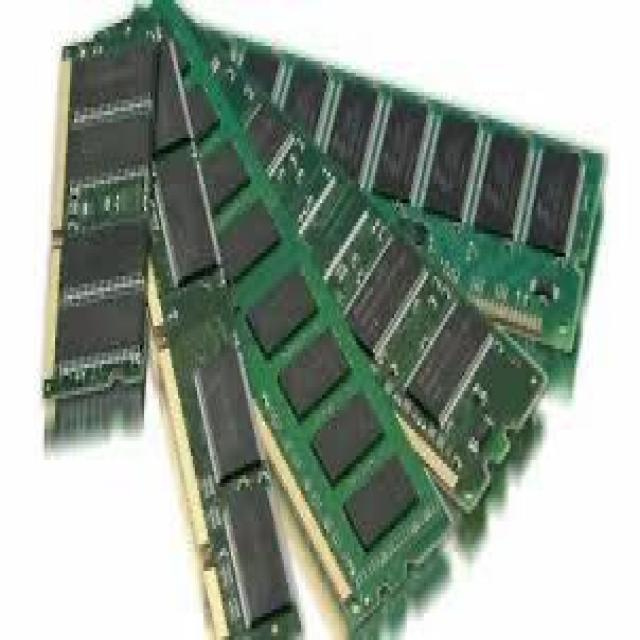Ram: (33, 46, 612, 606)
